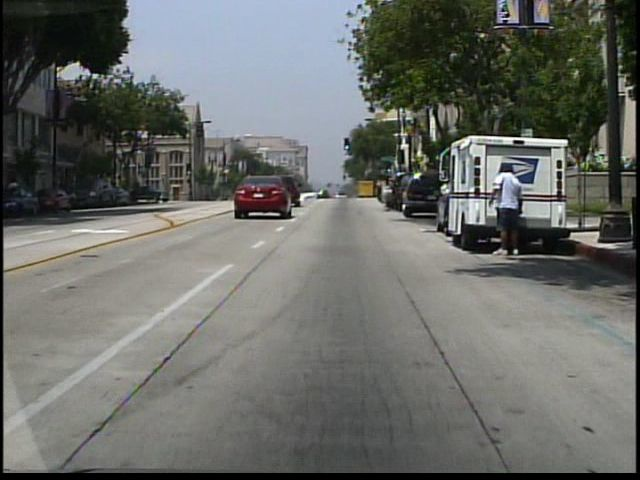person: (483, 162, 527, 257), (377, 173, 396, 214)
